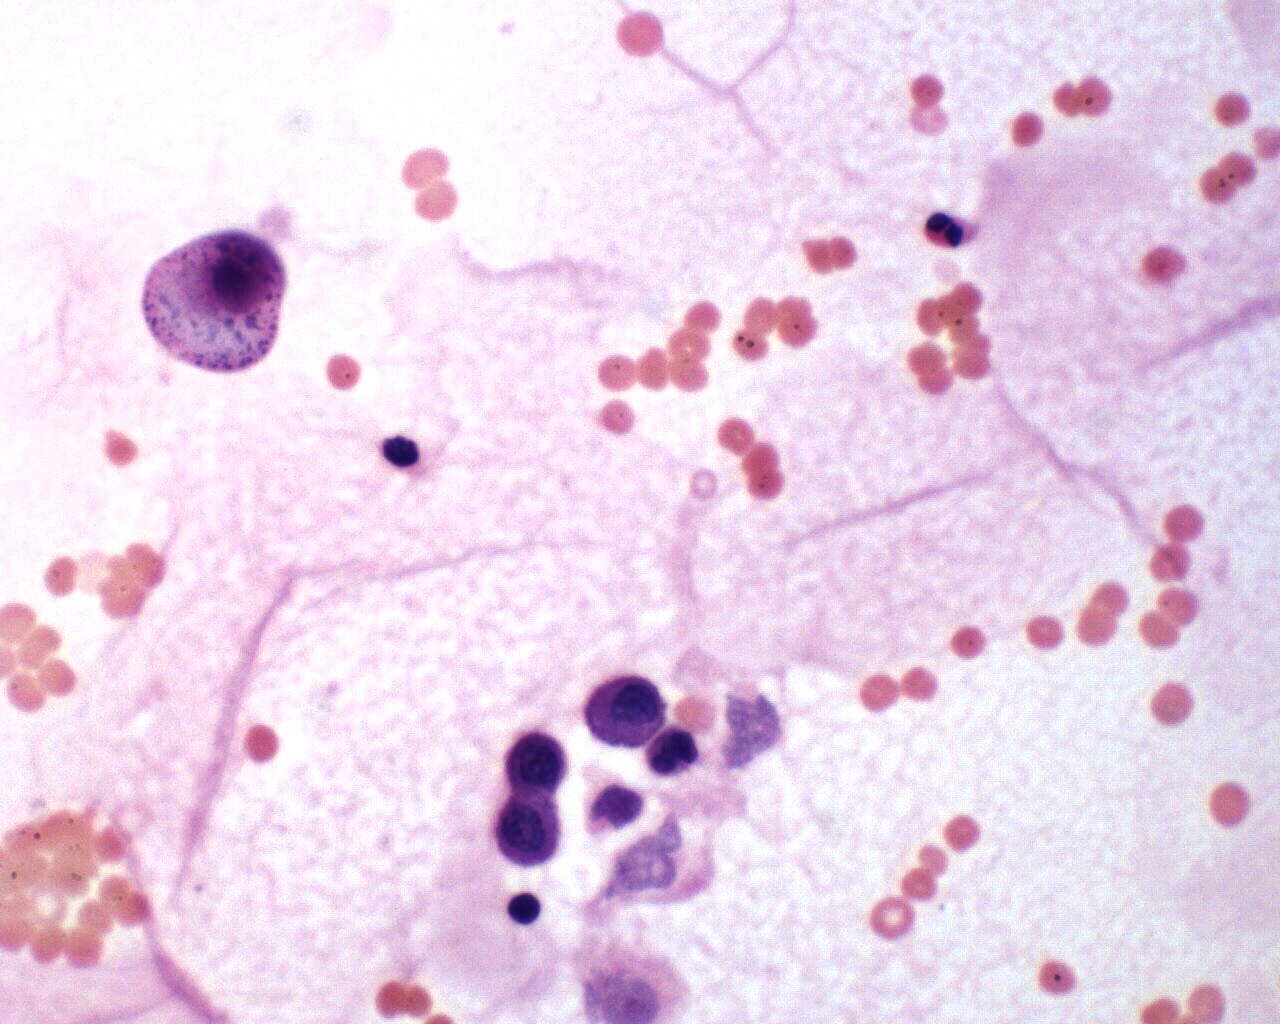ab: (578, 668, 678, 759), (489, 792, 564, 868), (499, 731, 571, 796)
lymph: (502, 889, 548, 934)
